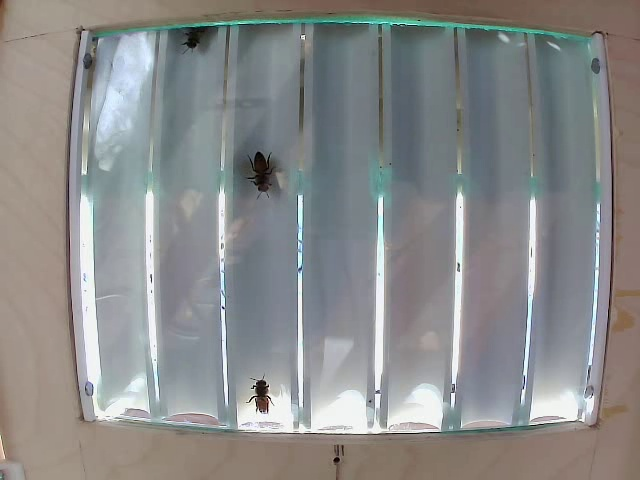bee: (236, 372, 280, 414), (241, 146, 280, 193), (187, 25, 220, 72)
